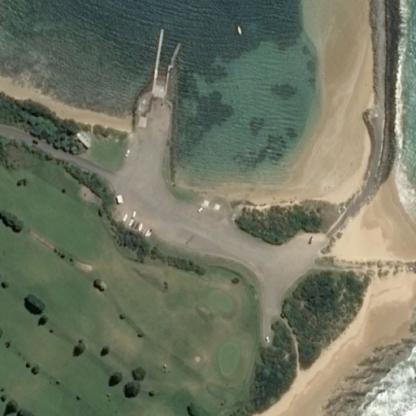ship: (235, 25, 240, 33)
